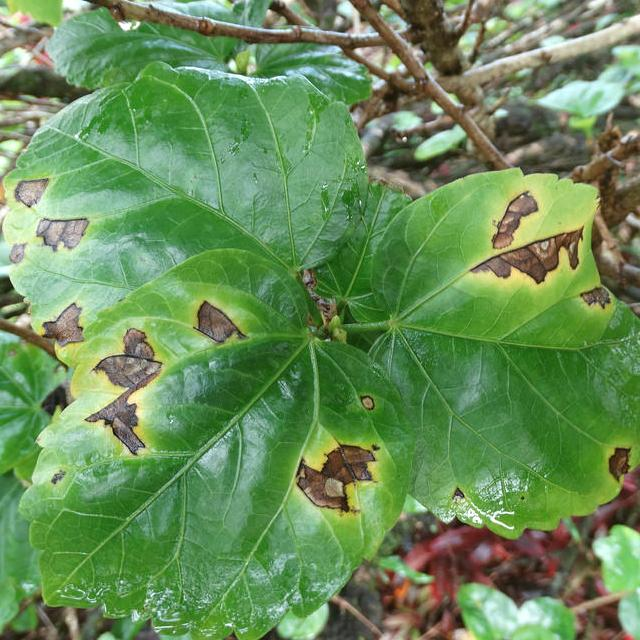Tomato Septoria leaf spot: (17, 265, 414, 640), (372, 165, 640, 526)
